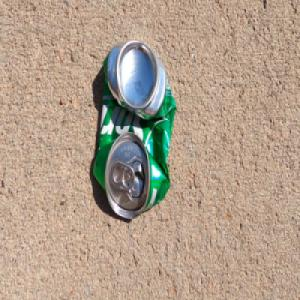SodaCan: (91, 38, 175, 222)
